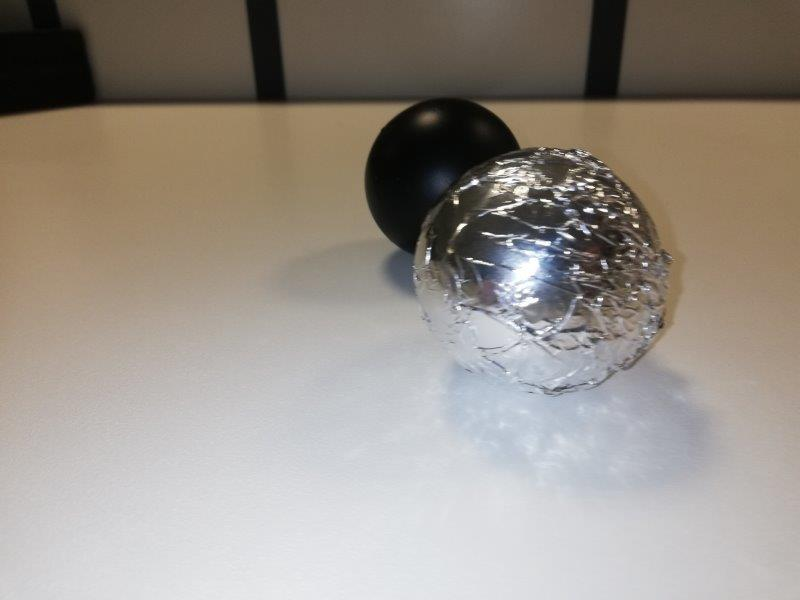bianca: (418, 148, 666, 394)
nera: (364, 96, 522, 252)
